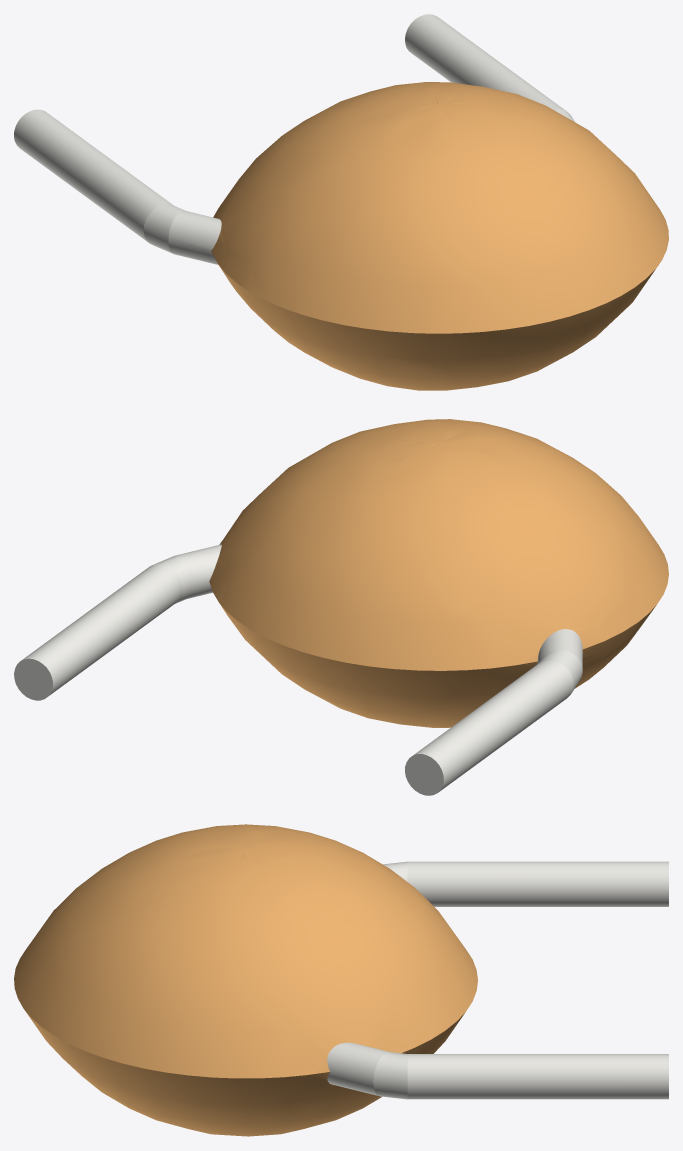
The model's file is C_Disc_D5.1mm_W3.2mm_P5.00mm.glb.
The picture shows the model from 3 angles, top to bottom: view 1: azimuth 30°, elevation 25°; view 2: azimuth 150°, elevation 25°; view 3: azimuth 270°, elevation 25°; orthographic projection.
Visible parts, largest first — view 1: Shape_IndexedFaceSet.005, Shape_IndexedFaceSet.004, Shape_IndexedFaceSet.001, Shape_IndexedFaceSet.008, Shape_IndexedFaceSet.003, Shape_IndexedFaceSet.002; view 2: Shape_IndexedFaceSet.005, Shape_IndexedFaceSet.004, Shape_IndexedFaceSet.001, Shape_IndexedFaceSet.008, Shape_IndexedFaceSet.006, Shape_IndexedFaceSet.009, Shape_IndexedFaceSet, Shape_IndexedFaceSet.003, Shape_IndexedFaceSet.002, Shape_IndexedFaceSet.007; view 3: Shape_IndexedFaceSet.005, Shape_IndexedFaceSet.004, Shape_IndexedFaceSet.008, Shape_IndexedFaceSet.001, Shape_IndexedFaceSet.006, Shape_IndexedFaceSet.007.
Boxes of the visible parts, <box> form: Shape_IndexedFaceSet.005: <box>211,82,668,333</box>; Shape_IndexedFaceSet.004: <box>218,264,655,390</box>; Shape_IndexedFaceSet.001: <box>14,109,173,242</box>; Shape_IndexedFaceSet.008: <box>405,14,565,110</box>; Shape_IndexedFaceSet.003: <box>168,210,221,264</box>; Shape_IndexedFaceSet.002: <box>143,204,184,253</box>; Shape_IndexedFaceSet.005: <box>209,419,668,670</box>; Shape_IndexedFaceSet.004: <box>219,603,656,727</box>; Shape_IndexedFaceSet.001: <box>413,659,573,792</box>; Shape_IndexedFaceSet.008: <box>21,563,182,695</box>; Shape_IndexedFaceSet.006: <box>175,544,221,598</box>; Shape_IndexedFaceSet.009: <box>14,658,52,700</box>; Shape_IndexedFaceSet: <box>405,754,443,795</box>; Shape_IndexedFaceSet.003: <box>537,629,582,668</box>; Shape_IndexedFaceSet.002: <box>539,650,582,692</box>; Shape_IndexedFaceSet.007: <box>155,555,190,603</box>; Shape_IndexedFaceSet.005: <box>14,824,477,1078</box>; Shape_IndexedFaceSet.004: <box>24,1009,464,1136</box>; Shape_IndexedFaceSet.008: <box>407,1054,668,1099</box>; Shape_IndexedFaceSet.001: <box>407,861,668,906</box>; Shape_IndexedFaceSet.006: <box>327,1042,388,1095</box>; Shape_IndexedFaceSet.007: <box>373,1052,407,1099</box>.
Bounding box in the file's own units: 2.17 × 1.26 × 2.83.
